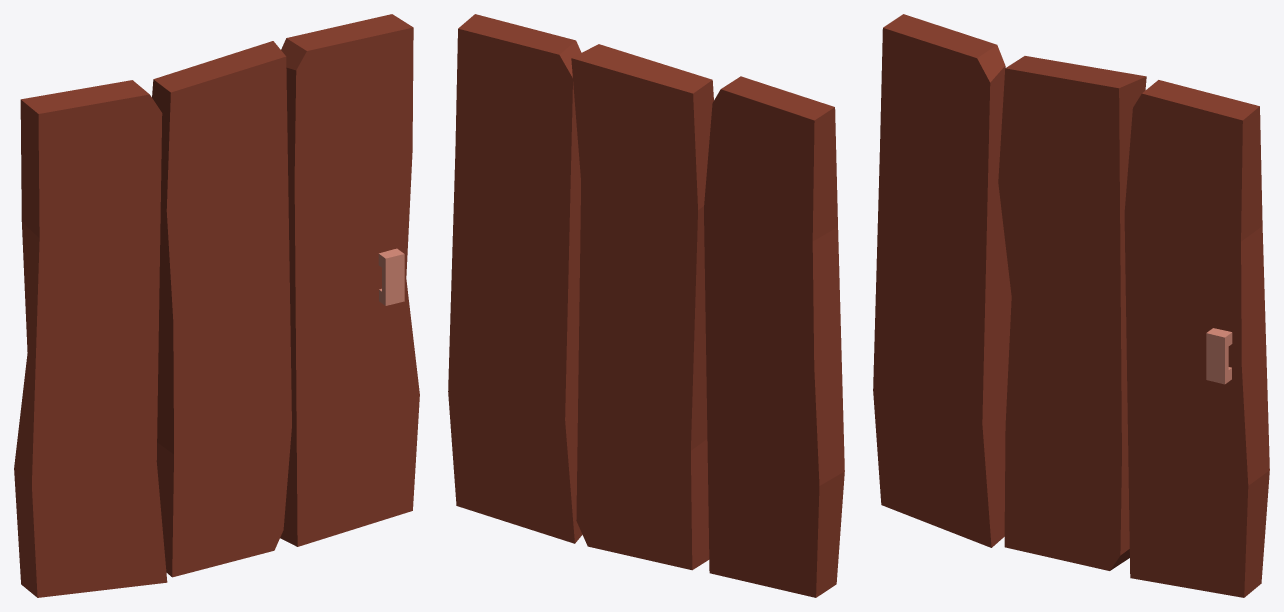
File: door_1a.fbx
3 views of the same model, side by side, from view 1: azimuth 30°, elevation 25°; view 2: azimuth 150°, elevation 25°; view 3: azimuth 330°, elevation 25° (orthographic).
Visible parts, largest first — view 1: door_1a; view 2: door_1a; view 3: door_1a.
Boxes of the visible parts, box(x1,y1,x2,y2) form: door_1a: box(14, 14, 419, 597); door_1a: box(448, 14, 844, 597); door_1a: box(873, 14, 1269, 597).
Bounding box in the file's own units: 167 × 205 × 22.59.
